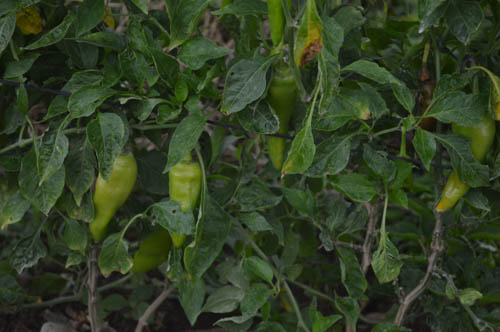ChiliPepper: (443, 114, 491, 213), (84, 159, 135, 238), (263, 76, 293, 167), (168, 163, 194, 242)
